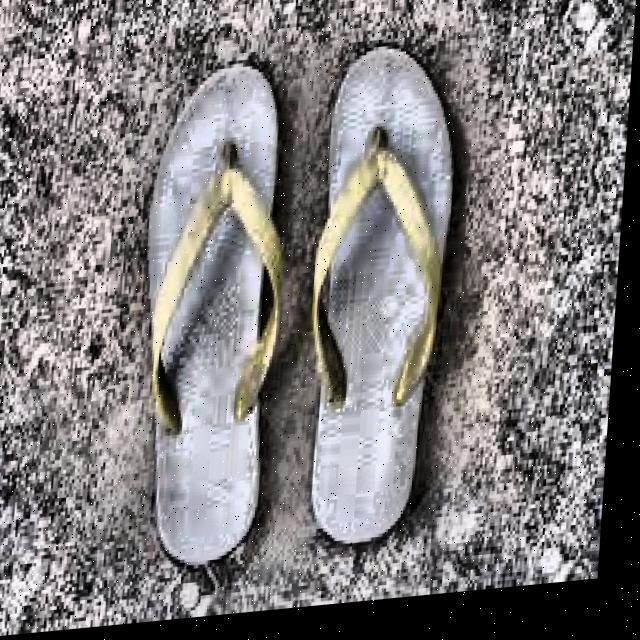shoes: (119, 0, 493, 570)
